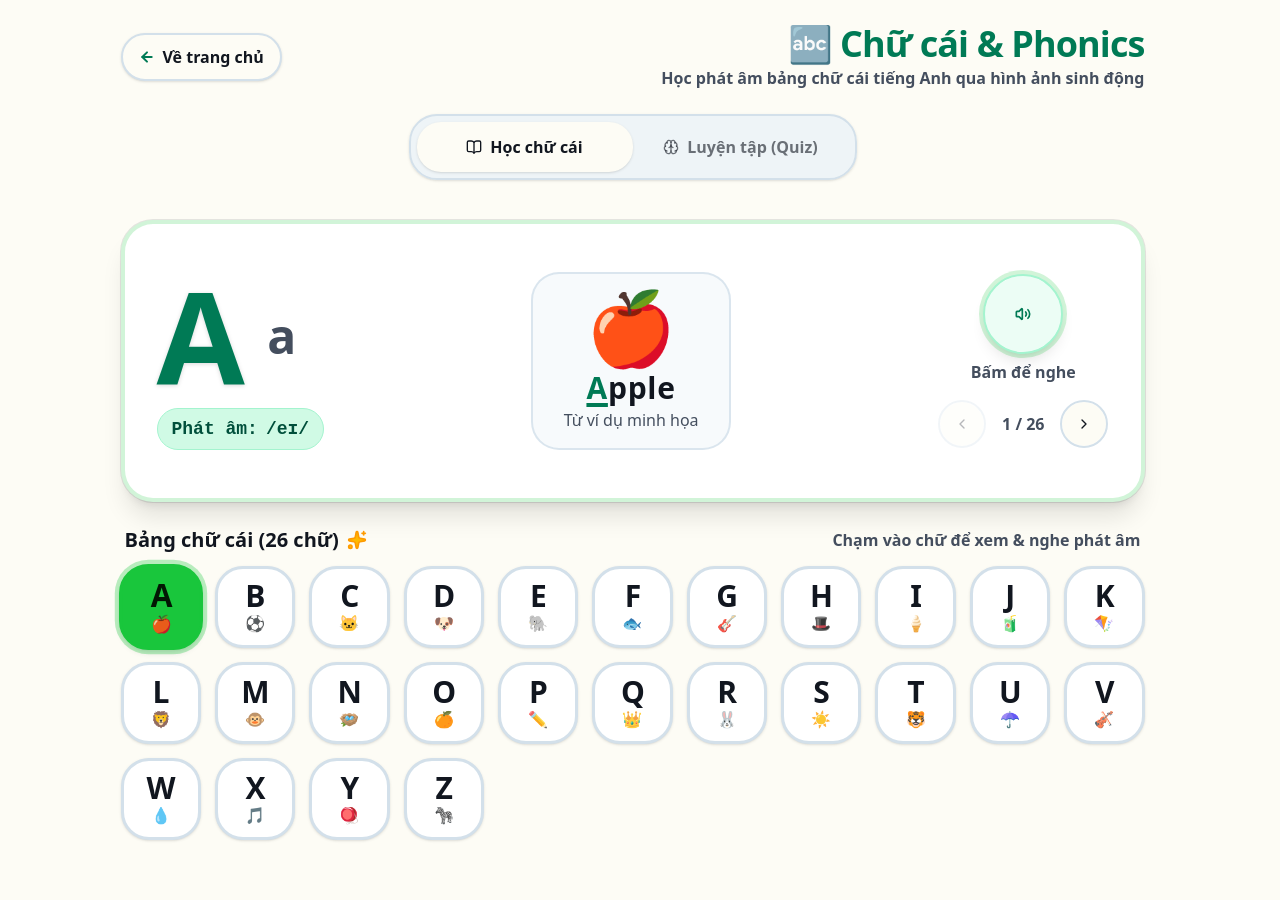
Test: Alphabet Game Page (app/games/alphabet/page.tsx) › allows switching to Quiz mode and presenting letter recognition questions
This screenshot has width=1280, height=900.
Step 1. Click the tab "Luyện tập (Quiz)" → (740, 147), box [632,122,848,172]
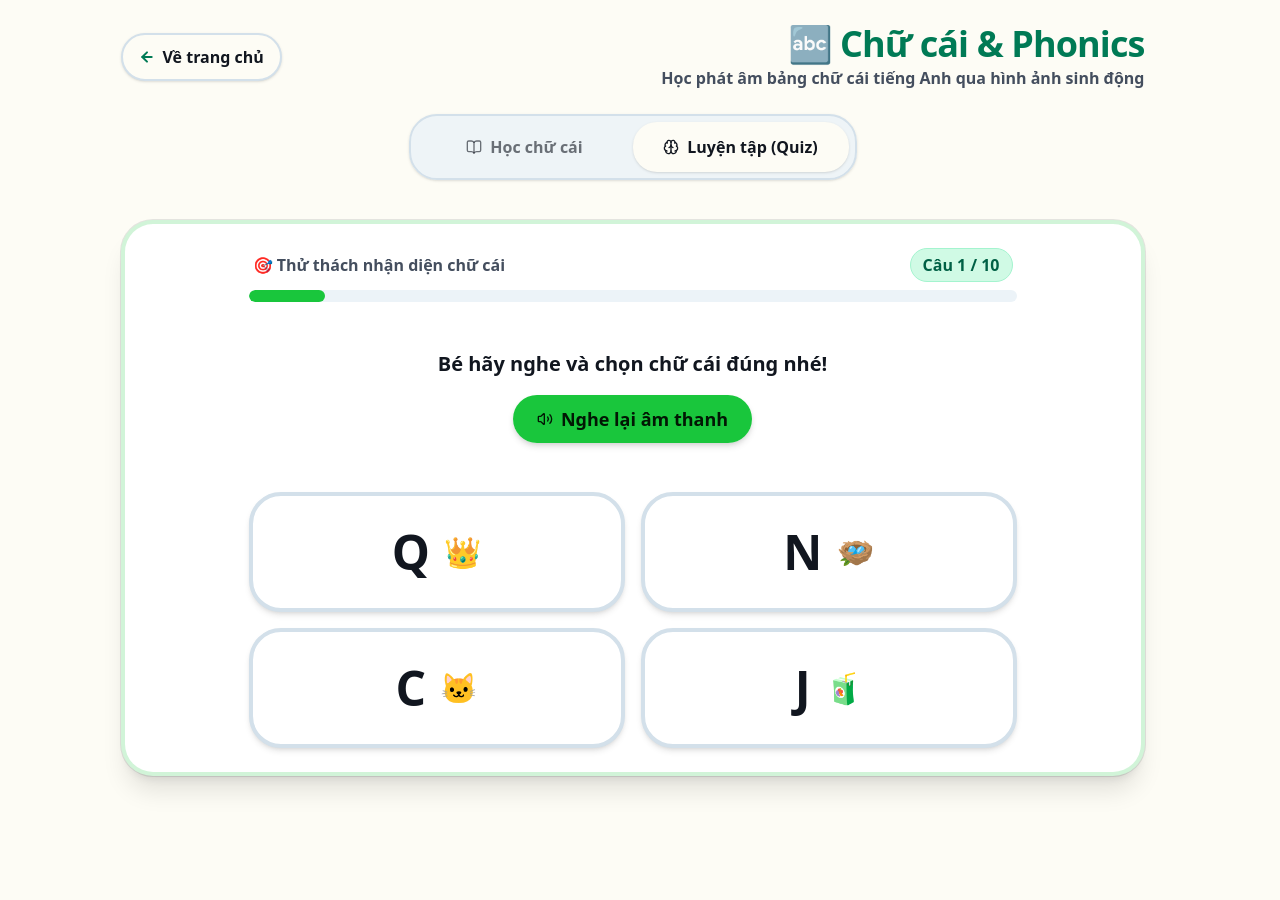
Result: the text "Câu 1 / 10" is shown at [910,248,1012,282]
Result: the text "Bé hãy nghe và chọn chữ cái đúng nhé!" is shown at [438,350,827,378]
